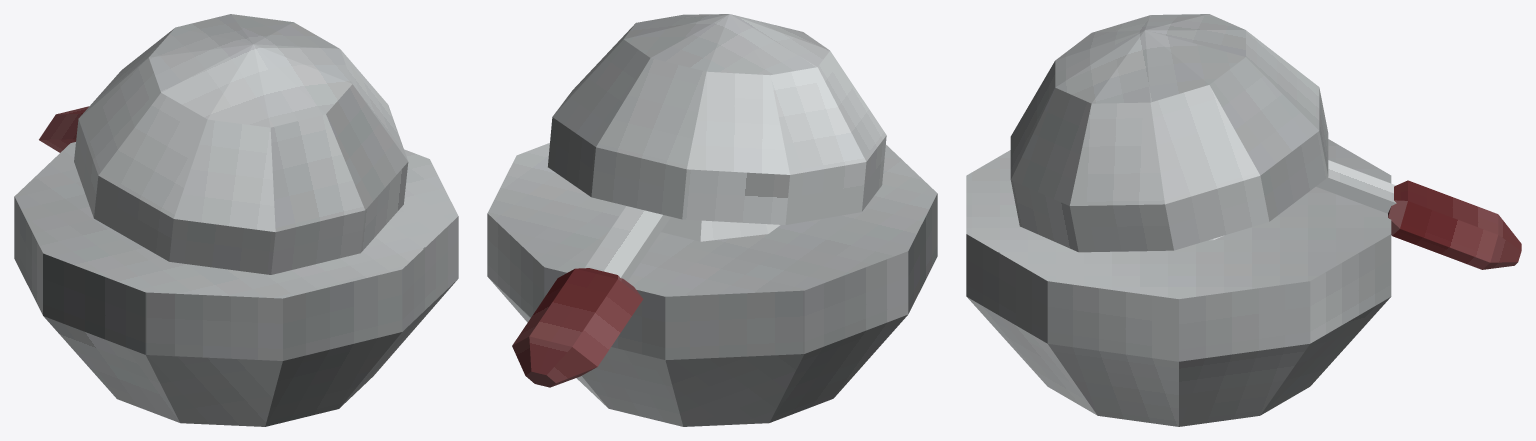
Rendered from Demon Core.obj.
The picture shows the model from 3 angles, left to right: view 1: azimuth 30°, elevation 25°; view 2: azimuth 150°, elevation 25°; view 3: azimuth 270°, elevation 25°; orthographic projection.
Visible parts, largest first — view 1: sphere, cuboid; view 2: sphere, cuboid; view 3: sphere, cuboid.
Boxes of the visible parts, left/top/right/bottom form: sphere: left=14, top=14, right=458, bottom=426; cuboid: left=39, top=106, right=88, bottom=152; sphere: left=487, top=14, right=937, bottom=426; cuboid: left=512, top=206, right=670, bottom=387; sphere: left=966, top=14, right=1391, bottom=426; cuboid: left=1316, top=160, right=1521, bottom=269.
Bounding box in the file's own units: 1 × 0.9309 × 1.24.
1 material, 1 textured.
